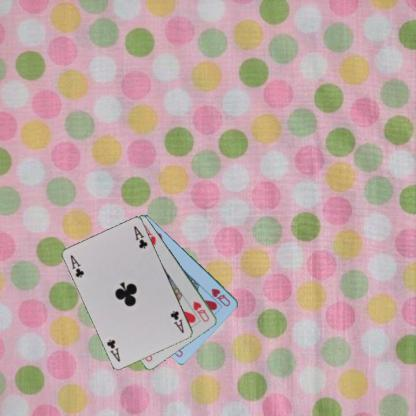Ac: (68, 252, 86, 279), (168, 308, 186, 334)
Qh: (209, 286, 232, 308), (191, 299, 210, 323)
